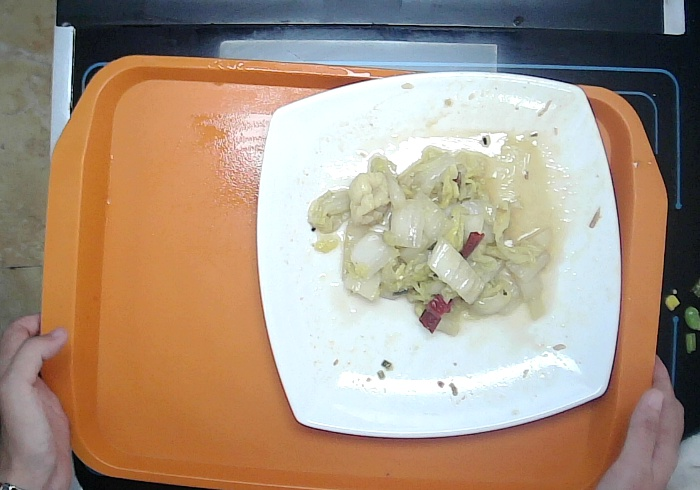ZNLD-Bai_Fang_Pan: (254, 69, 623, 440)
